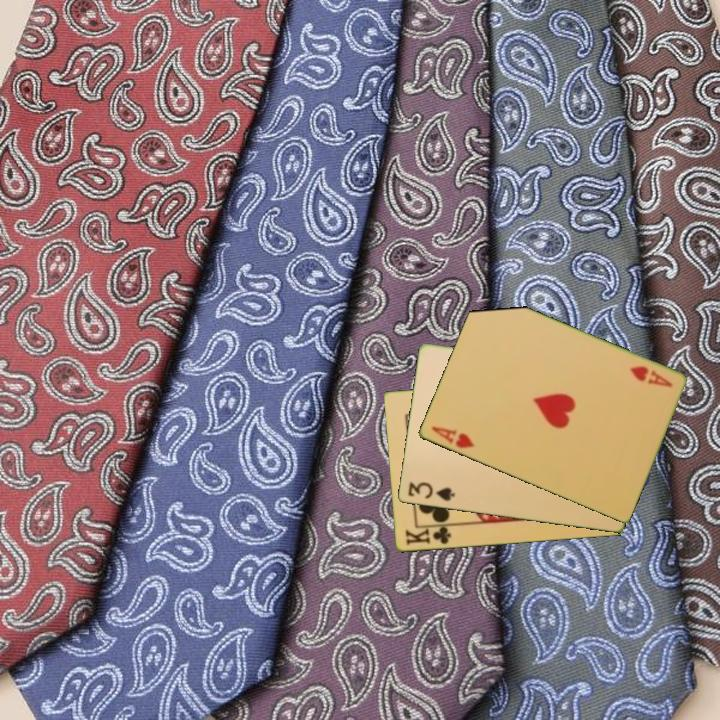3s: (404, 479, 458, 504)
Ah: (428, 423, 477, 452), (625, 362, 675, 390)
Kc: (402, 522, 456, 548)
